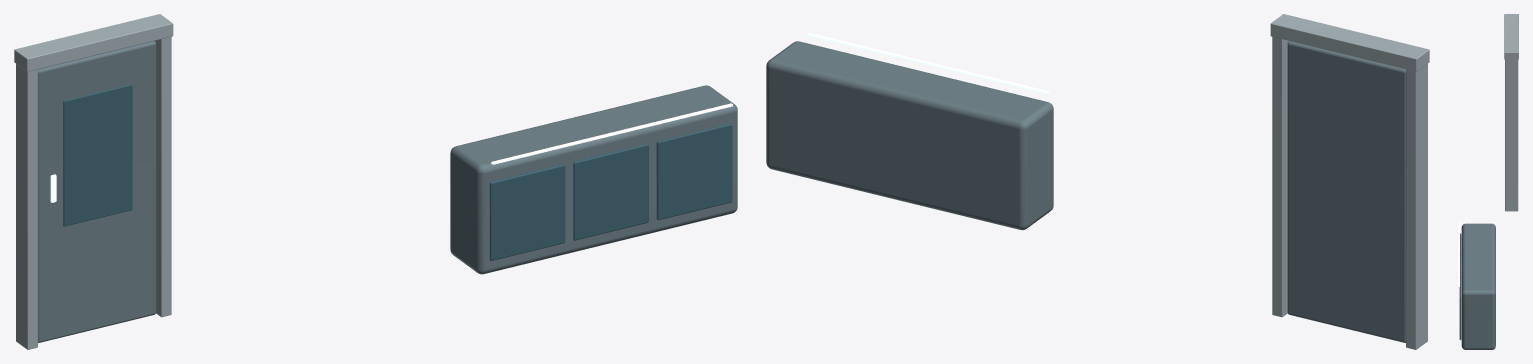
The model's file is south.glb.
3 views of the same model, side by side, from view 1: azimuth 30°, elevation 25°; view 2: azimuth 150°, elevation 25°; view 3: azimuth 270°, elevation 25° (orthographic). The views are drawn at different scales.
Visible parts, largest first — view 1: starship-lounge south; view 2: starship-lounge south; view 3: starship-lounge south.
Boxes of the visible parts, x1,y1,x2,y2 form: starship-lounge south: (14, 14, 737, 349); starship-lounge south: (766, 14, 1429, 349); starship-lounge south: (1458, 14, 1518, 349).
Size of the model in its own units: 6.45 by 2.67 by 0.925.
